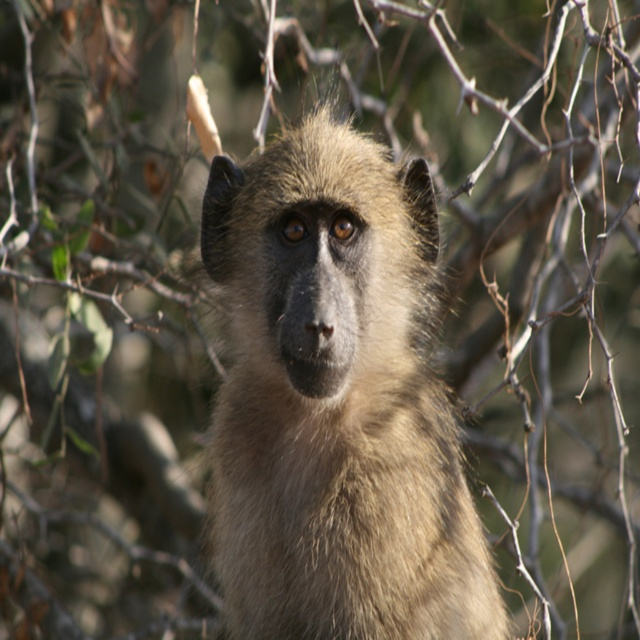Monkey: (173, 101, 510, 632)
